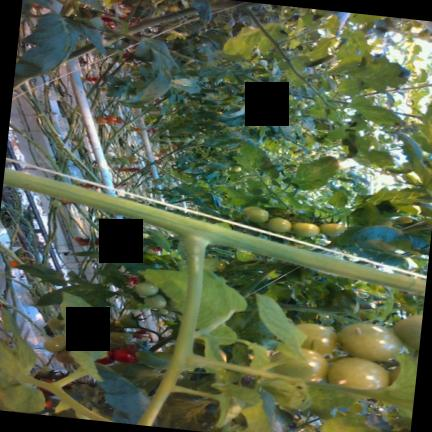6kp_petiole: (129, 203, 274, 294), (217, 1, 267, 33), (176, 54, 201, 68)
MainStem: (3, 168, 426, 296), (126, 8, 197, 35)
tomato: (337, 323, 402, 361), (327, 357, 389, 389), (272, 348, 328, 381), (296, 323, 337, 355), (394, 315, 423, 350), (37, 380, 65, 396), (242, 206, 268, 223), (291, 222, 319, 237), (43, 334, 66, 352), (319, 223, 346, 237), (266, 217, 291, 232), (112, 349, 137, 363), (133, 282, 158, 296), (105, 332, 133, 344), (144, 294, 166, 309), (55, 348, 74, 364), (95, 351, 114, 365), (35, 367, 55, 377), (395, 216, 412, 223), (378, 219, 392, 226), (95, 117, 106, 124), (51, 200, 62, 207), (138, 233, 150, 239), (45, 400, 53, 408), (119, 238, 129, 244), (160, 136, 170, 142), (297, 103, 307, 109), (106, 116, 116, 122), (157, 309, 168, 314), (180, 137, 191, 142), (128, 234, 137, 240), (292, 110, 301, 116), (170, 137, 180, 142), (305, 101, 314, 106), (232, 166, 241, 171), (115, 118, 124, 123), (95, 241, 104, 246), (298, 149, 305, 154), (289, 147, 297, 151), (309, 150, 315, 155), (311, 155, 318, 159), (216, 111, 222, 114)
